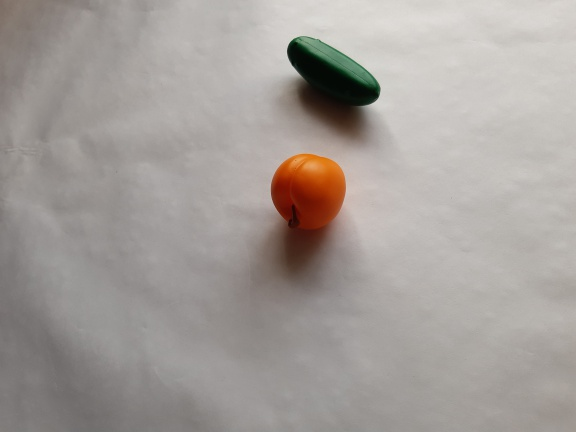apricot: (257, 145, 360, 239)
cucumber: (273, 29, 388, 113)
